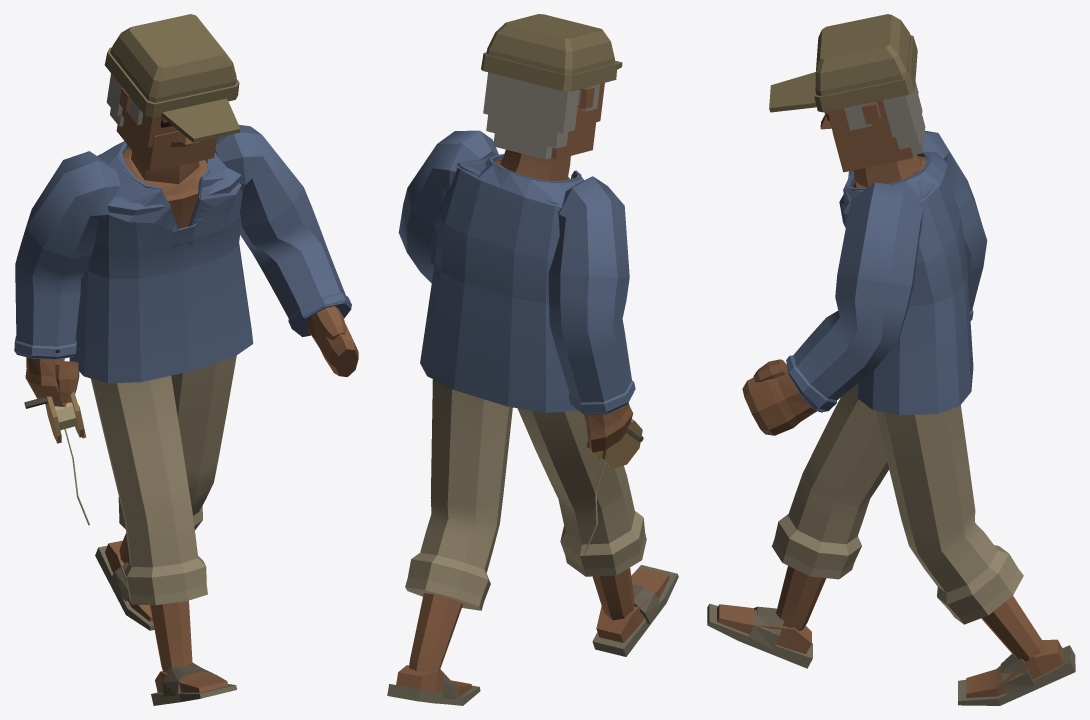
Rendered from hanga-roa-fisherman-e56812__walk4.glb.
3 renders of one model, left to right at view 1: azimuth 30°, elevation 25°; view 2: azimuth 150°, elevation 25°; view 3: azimuth 270°, elevation 25°, orthographic.
Visible parts, largest first — view 1: hanga-roa-fisherman-e56812__walk4; view 2: hanga-roa-fisherman-e56812__walk4; view 3: hanga-roa-fisherman-e56812__walk4.
Part boxes in pixels (x1,y1,x2,y2): hanga-roa-fisherman-e56812__walk4: (14, 14, 358, 705); hanga-roa-fisherman-e56812__walk4: (387, 14, 678, 705); hanga-roa-fisherman-e56812__walk4: (707, 14, 1075, 705).
Bounding box in the file's own units: 0.7356 × 1.68 × 0.8677.
